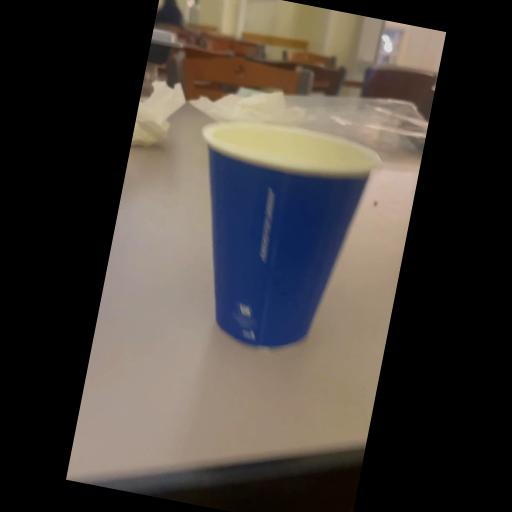lp_paper_cup: (162, 94, 396, 364)
